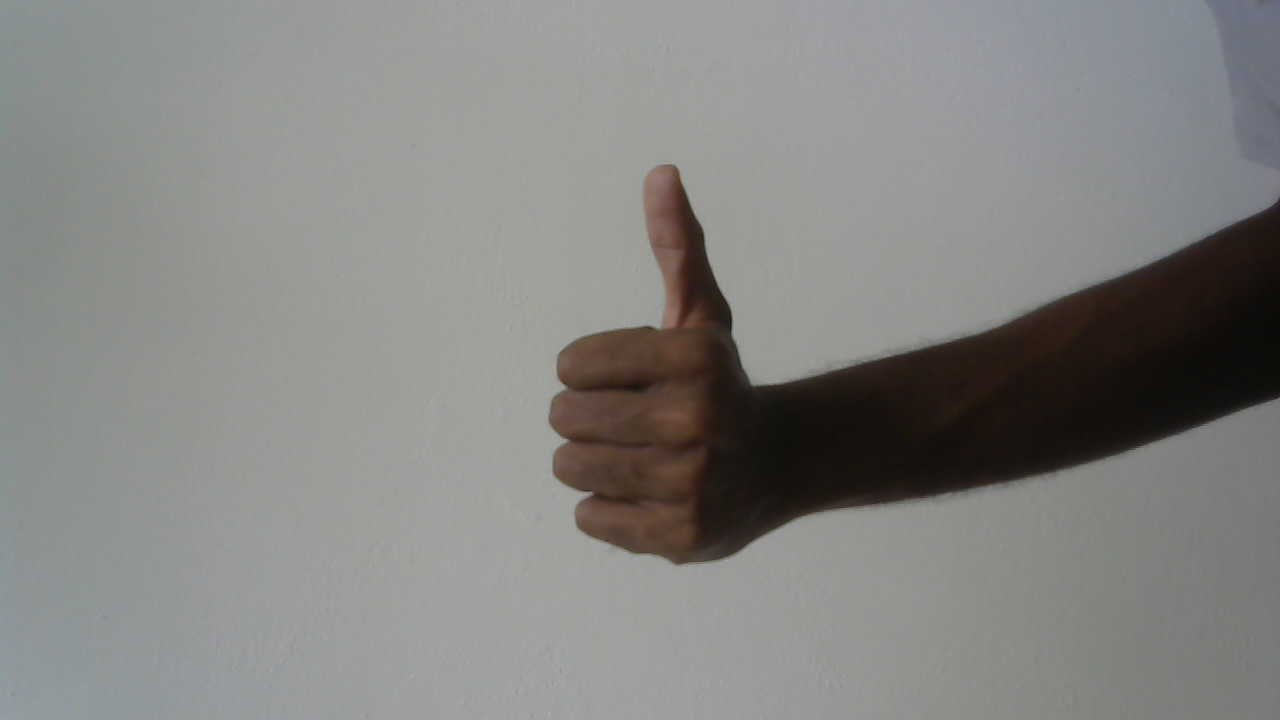thumbsup: (536, 150, 798, 590)
